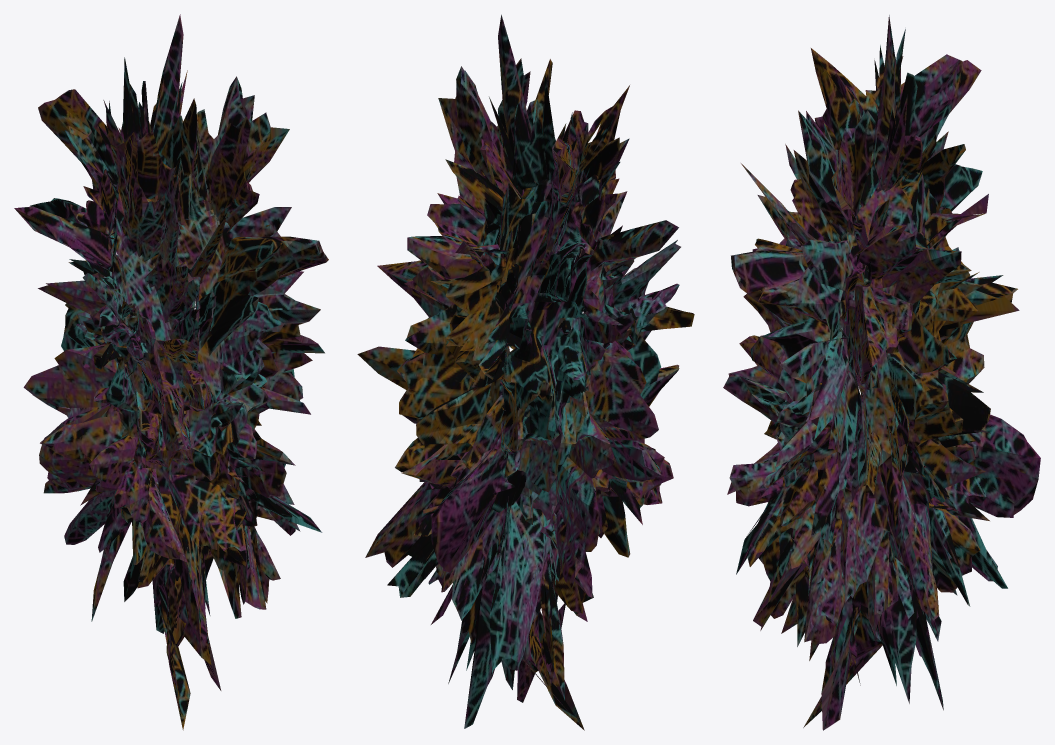
File: obs.glb
The picture shows the model from 3 angles, left to right: view 1: azimuth 30°, elevation 25°; view 2: azimuth 150°, elevation 25°; view 3: azimuth 270°, elevation 25°; orthographic projection. The views are drawn at different scales.
Visible parts, largest first — view 1: Cube; view 2: Cube; view 3: Cube.
Boxes of the visible parts, x1,y1,x2,y2 form: Cube: (14,14,328,730); Cube: (357,14,694,730); Cube: (723,15,1040,730).
Size of the model in its own units: 1.6 by 3.61 by 1.42.
Materials: 1 (1 with a texture image).
